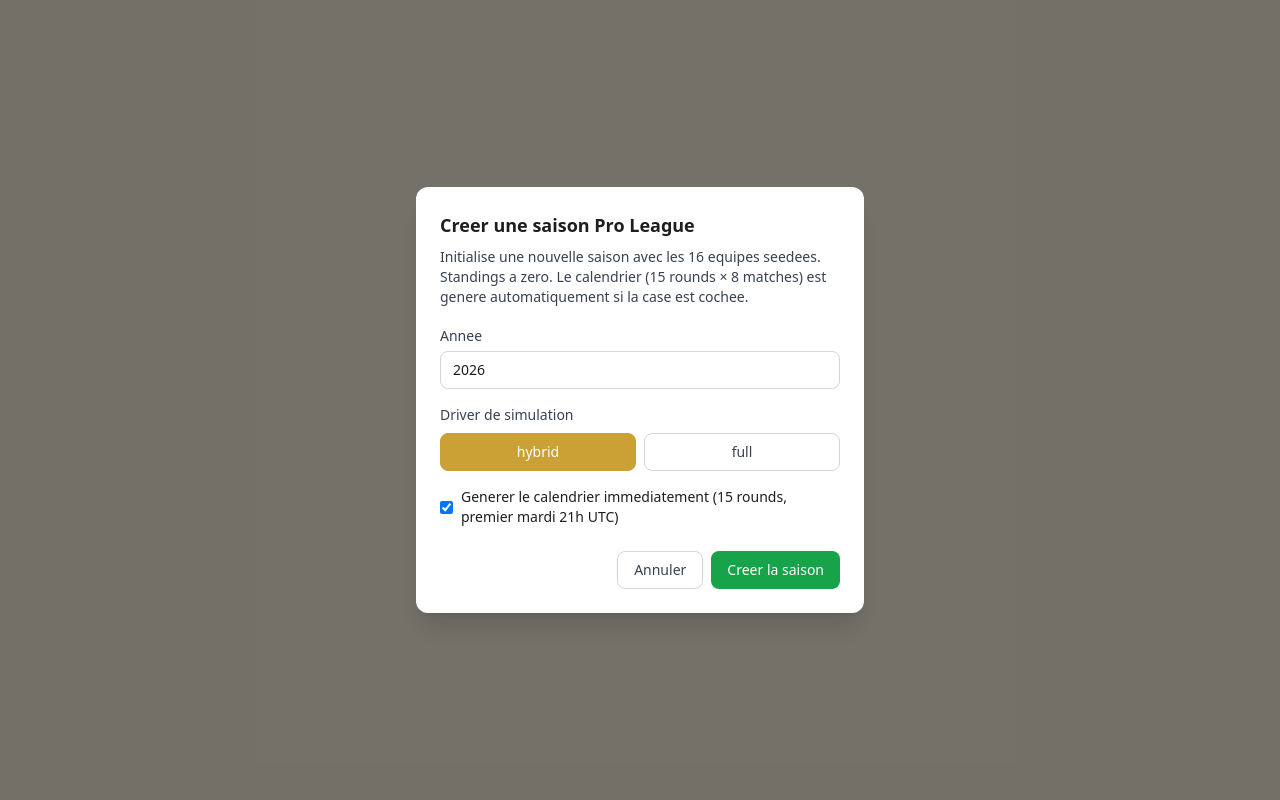
Test case: CreateSeasonModal › submit disabled si year hors bornes (<2020)
Replace the text in the number field with test id "create-year" with "1999": point(640, 370) [440,351,840,389]
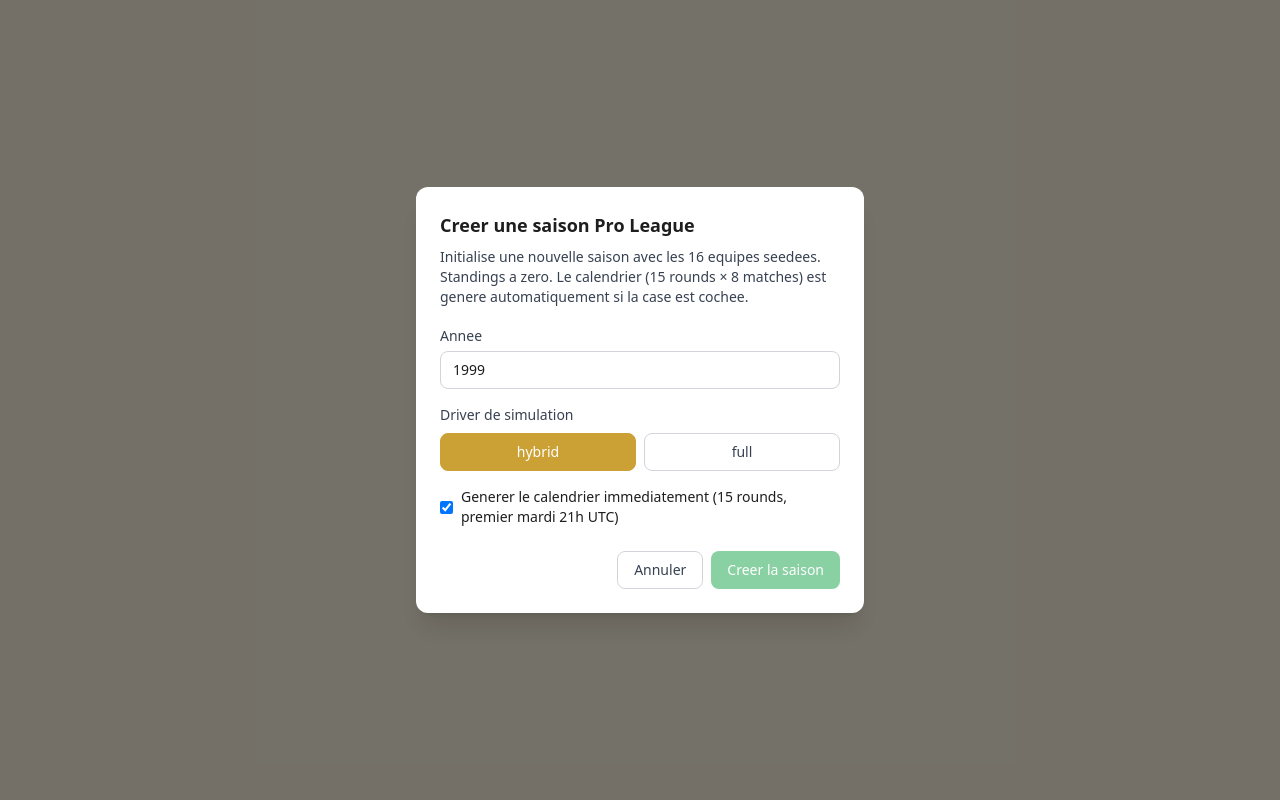
Result: the button with test id "create-submit" is disabled at [711,551,840,589]
